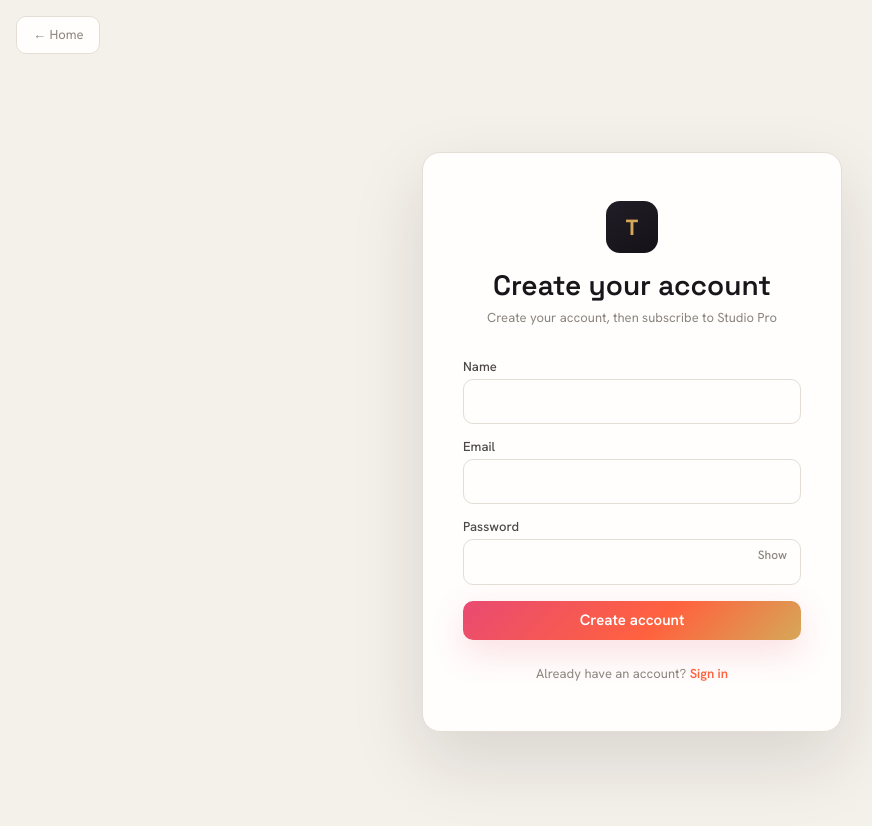
Test case: onboarding authentication screens › submits signup and explains email confirmation
Type "New Customer" into the field labelled "Name".
click(632, 402); type("New Customer")  # box left=463, top=379, right=801, bottom=424
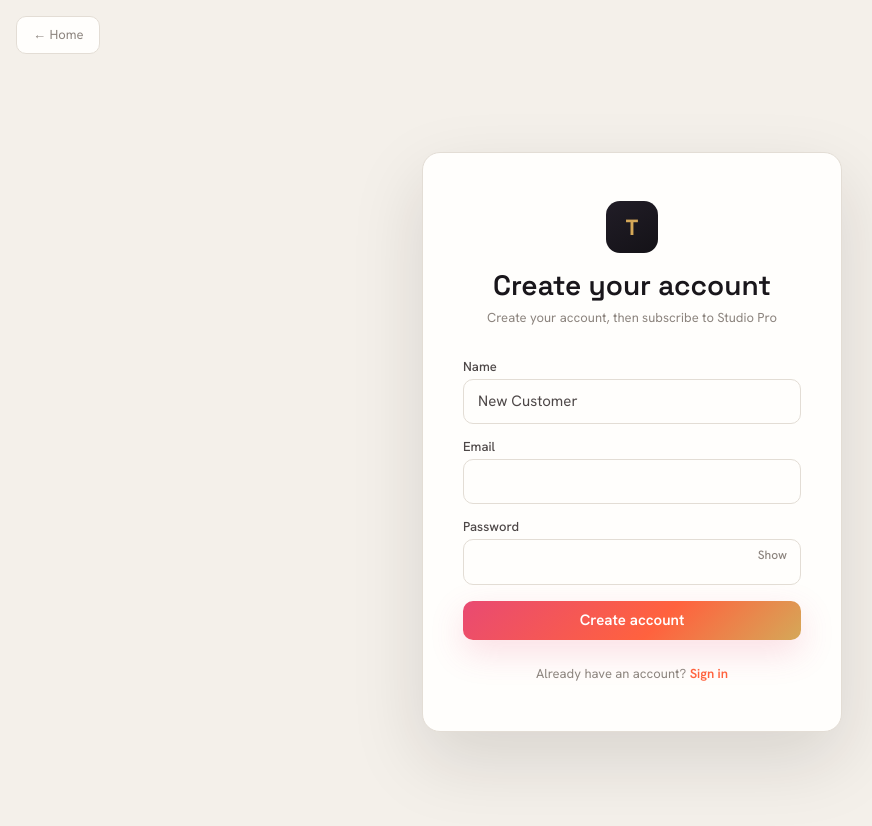
Type "new@example.invalid" into the field labelled "Email".
click(632, 482); type("new@example.invalid")  # box left=463, top=459, right=801, bottom=504
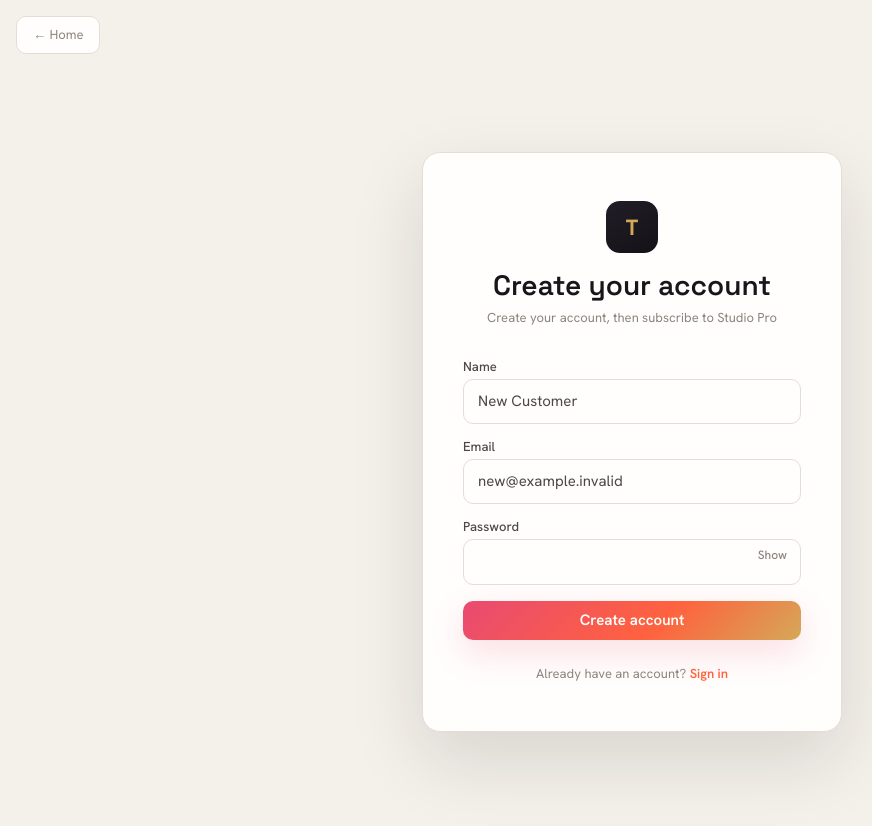
Type "password1" into the password field labelled "Password".
click(632, 562); type("password1")  # box left=463, top=539, right=801, bottom=585
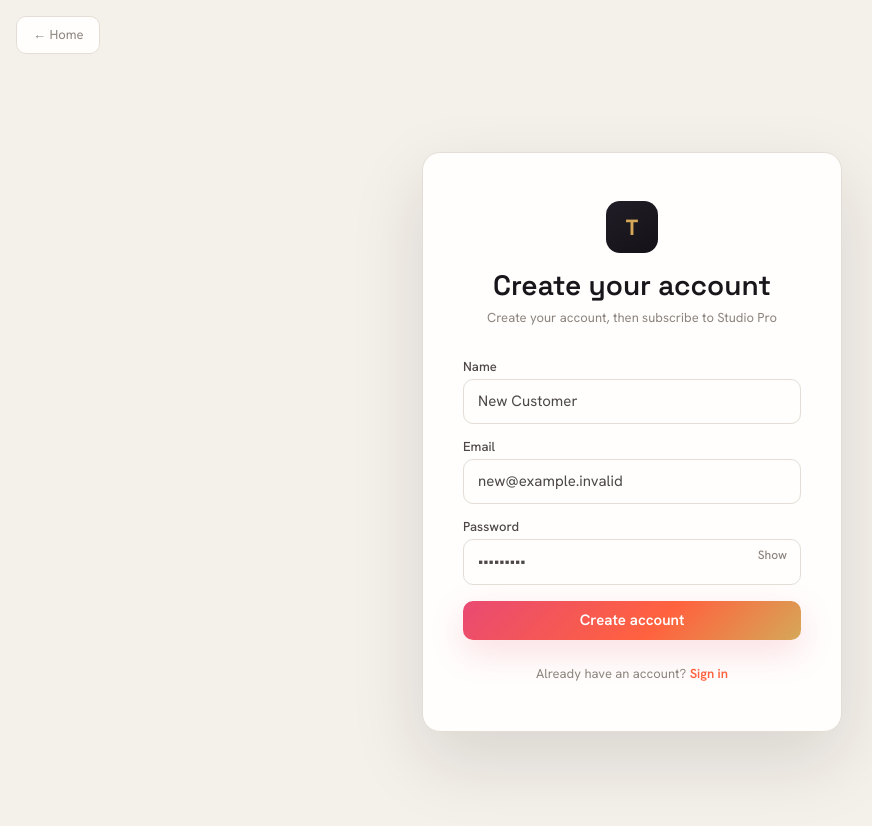
Click the button "Create account".
click(632, 620)  # box left=463, top=601, right=801, bottom=640
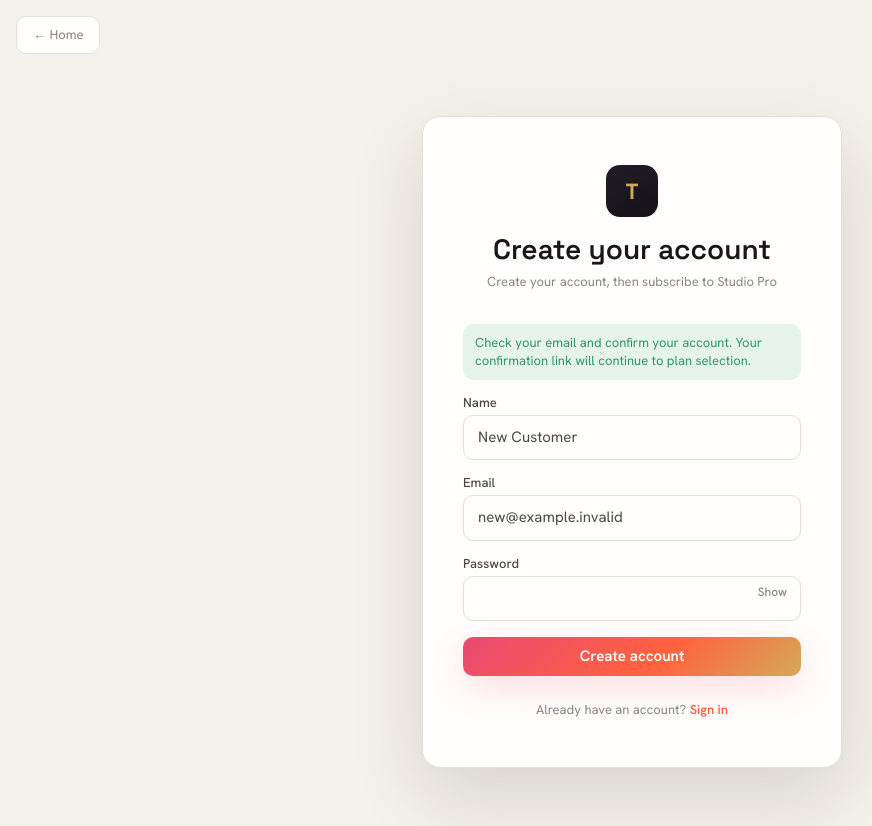
Result: the text "confirmation link will continue to plan selection" is shown at left=475, top=334, right=762, bottom=369
